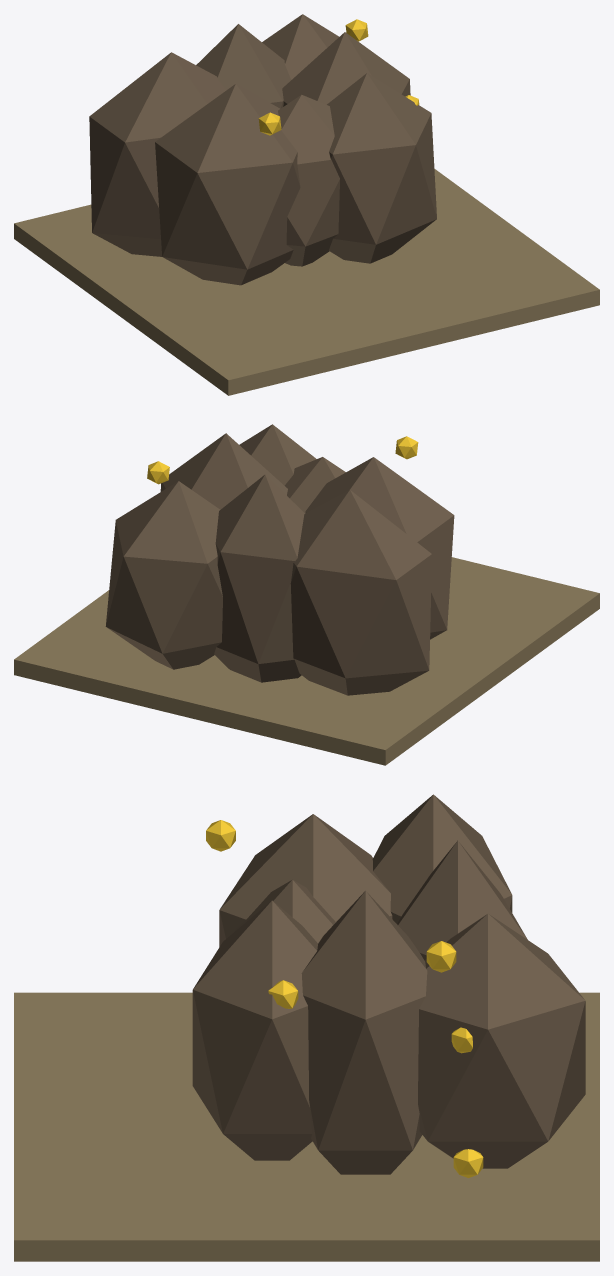
File: Deposit_Gold_Normal.fbx
3 views of the same model, one above another, from view 1: azimuth 30°, elevation 25°; view 2: azimuth 150°, elevation 25°; view 3: azimuth 270°, elevation 25° (orthographic). The views are drawn at different scales.
Parts seen in each view (by area): view 1: Deposit_Gold_Normal_Body; view 2: Deposit_Gold_Normal_Body; view 3: Deposit_Gold_Normal_Body.
Part boxes in pixels (x1=…): Deposit_Gold_Normal_Body: x1=14, y1=14, x2=599, y2=395; Deposit_Gold_Normal_Body: x1=14, y1=424, x2=599, y2=765; Deposit_Gold_Normal_Body: x1=14, y1=794, x2=599, y2=1261.
Size of the model in its own units: 1 by 0.5916 by 1.
